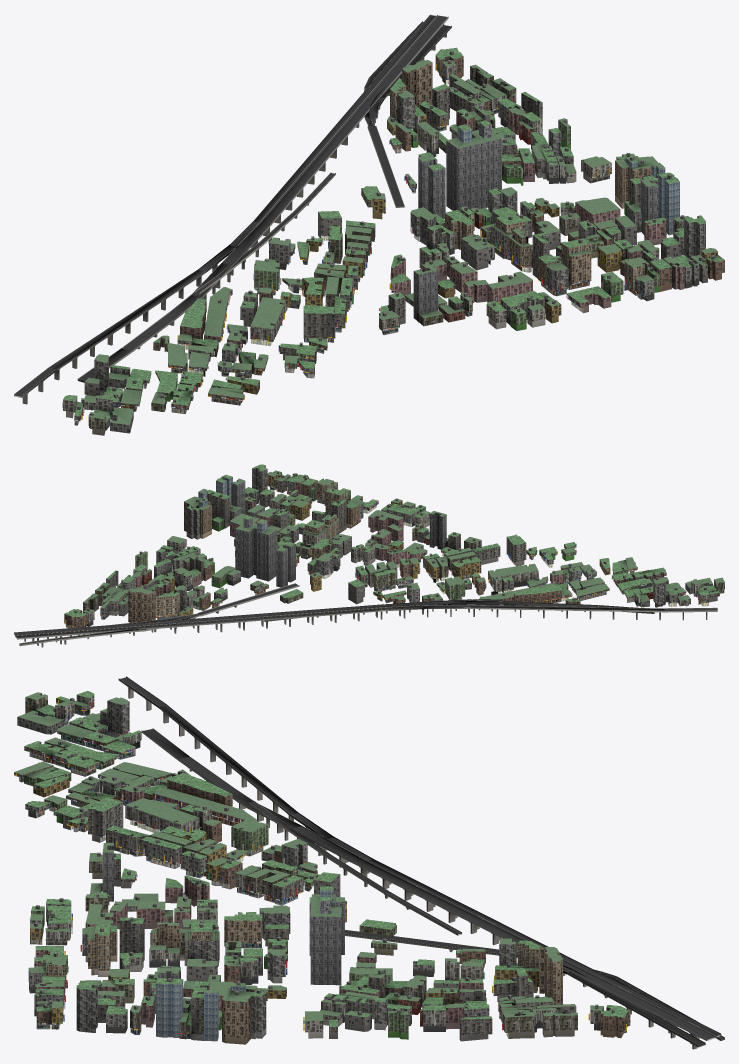
The picture shows the model from 3 angles, top to bottom: view 1: azimuth 30°, elevation 25°; view 2: azimuth 150°, elevation 25°; view 3: azimuth 270°, elevation 25°; orthographic projection. The views are drawn at different scales.
Visible parts, largest first — view 1: buildings_roof_ai_1, buildings_roof_ai_0, bridges_deck, buildings_facade_ai_stone_office, bridges_concrete, buildings_facade_ai_pink, buildings_facade_ai_concrete, buildings_facade_ai_cream, buildings_facade_ai_grey_wash, buildings_facade_ai_white_tile_apts, buildings_facade_ai_condo_1990s, buildings_facade_ai_grey (+12 smaller); view 2: buildings_roof_ai_1, buildings_roof_ai_0, bridges_concrete, bridges_deck, buildings_facade_ai_stone_office, buildings_facade_ai_concrete, buildings_facade_ai_pink, buildings_facade_ai_grey_wash, buildings_facade_ai_cream, buildings_facade_ai_brown_brick_tile, buildings_facade_ai_white_tile_apts, buildings_facade_ai_yellow_tile_apts (+13 smaller); view 3: buildings_roof_ai_1, buildings_roof_ai_0, bridges_deck, bridges_concrete, buildings_facade_ai_concrete, buildings_facade_ai_white_tile_apts, buildings_facade_ai_grey, buildings_facade_ai_condo_1990s, buildings_facade_ai_pink, buildings_facade_ai_hotel_tiles, buildings_facade_ai_brown_brick_tile, buildings_facade_ai_stone_office (+12 smaller).
Part boxes in pixels (x1,y1,x2,y2): buildings_roof_ai_1: (81,60,717,424); buildings_roof_ai_0: (63,48,724,422); bridges_deck: (14,15,450,396); buildings_facade_ai_stone_office: (413,134,658,320); bridges_concrete: (14,14,451,404); buildings_facade_ai_pink: (113,109,684,409); buildings_facade_ai_concrete: (74,87,657,421); buildings_facade_ai_cream: (63,82,659,419); buildings_facade_ai_grey_wash: (84,75,707,395); buildings_facade_ai_white_tile_apts: (81,62,621,410); buildings_facade_ai_condo_1990s: (94,92,705,395); buildings_facade_ai_grey: (90,102,699,433); buildings_roof_ai_1: (83,472,724,613); buildings_roof_ai_0: (64,464,719,617); bridges_concrete: (14,583,717,647); bridges_deck: (14,584,717,644); buildings_facade_ai_stone_office: (231,480,446,587); buildings_facade_ai_concrete: (106,491,719,617); buildings_facade_ai_pink: (133,475,685,601); buildings_facade_ai_grey_wash: (100,475,677,619); buildings_facade_ai_cream: (109,495,709,615); buildings_facade_ai_brown_brick_tile: (64,472,637,627); buildings_facade_ai_white_tile_apts: (82,505,690,626); buildings_facade_ai_yellow_tile_apts: (157,474,610,618); buildings_roof_ai_1: (14,692,603,1021); buildings_roof_ai_0: (24,691,629,1026); bridges_deck: (120,677,724,1045); bridges_concrete: (118,676,724,1049); buildings_facade_ai_concrete: (56,698,533,1041); buildings_facade_ai_white_tile_apts: (46,718,603,1032); buildings_facade_ai_grey: (17,710,489,1033); buildings_facade_ai_condo_1990s: (76,701,516,1039); buildings_facade_ai_pink: (24,722,483,1029); buildings_facade_ai_hotel_tiles: (88,919,562,1044); buildings_facade_ai_brown_brick_tile: (14,756,630,1038); buildings_facade_ai_stone_office: (102,845,344,985).
Size of the model in its own units: 753 by 80.04 by 625.
35 materials, 32 textured.
